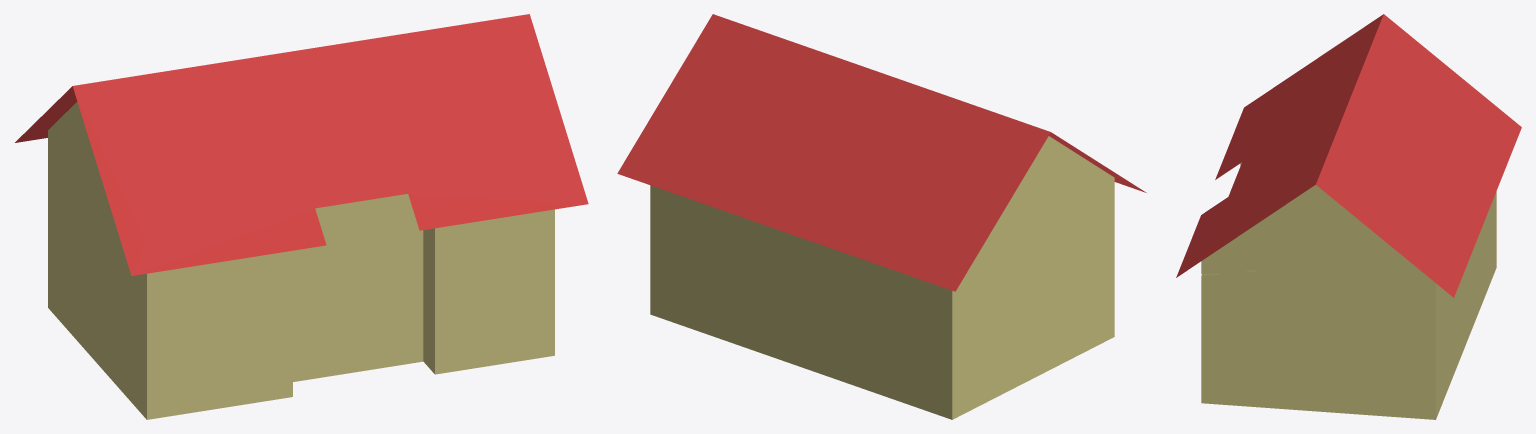
The picture shows the model from 3 angles, left to right: view 1: azimuth 30°, elevation 25°; view 2: azimuth 150°, elevation 25°; view 3: azimuth 270°, elevation 25°; orthographic projection. The views are drawn at different scales.
Size of the model in its own units: 20.52 by 15.75 by 11.87.
